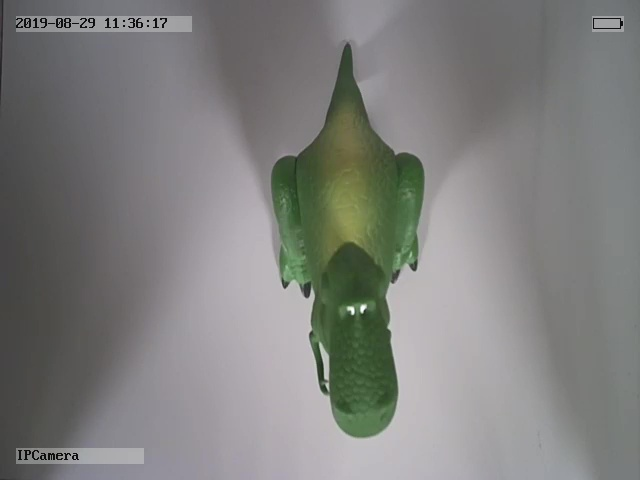rex: (264, 39, 432, 439)
